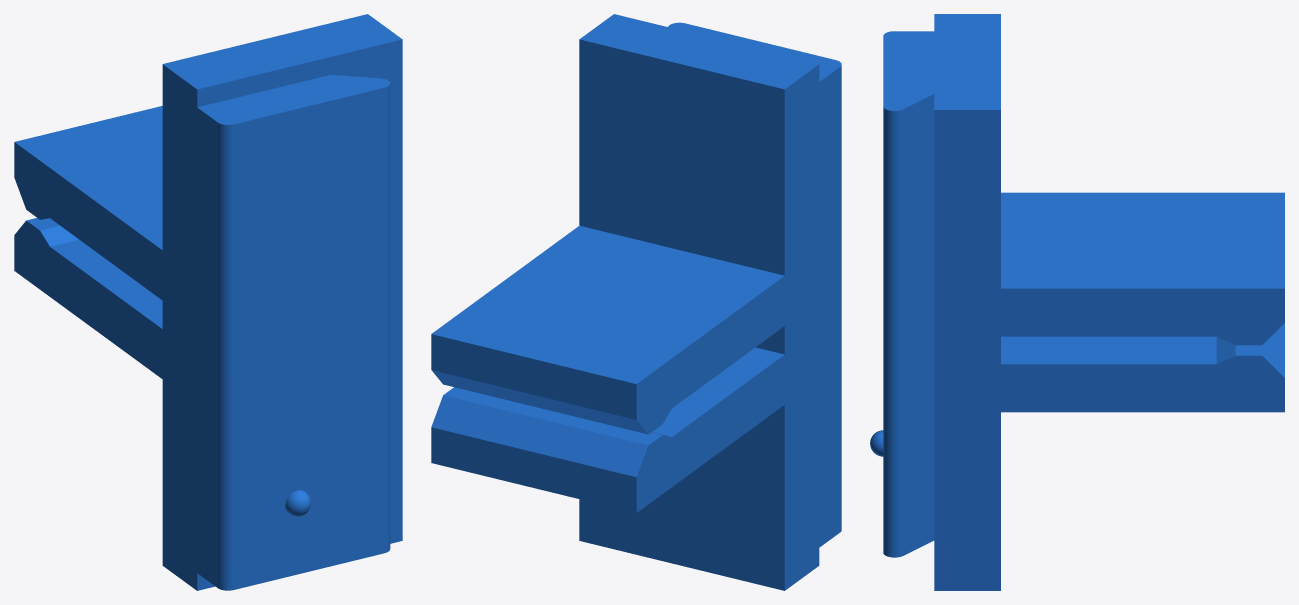
Rendered from vent_clip.glb.
3 renders of one model, left to right at view 1: azimuth 30°, elevation 25°; view 2: azimuth 150°, elevation 25°; view 3: azimuth 270°, elevation 25°, orthographic. The views are drawn at different scales.
Parts seen in each view (by area): view 1: Open CASCADE STEP translator 7.9 4; view 2: Open CASCADE STEP translator 7.9 4; view 3: Open CASCADE STEP translator 7.9 4.
Boxes of the visible parts, x1,y1,x2,y2 form: Open CASCADE STEP translator 7.9 4: (14,14,402,590); Open CASCADE STEP translator 7.9 4: (431,14,841,590); Open CASCADE STEP translator 7.9 4: (870,14,1284,590).
Bounding box in the file's own units: 0.012 × 0.028 × 0.0219.
